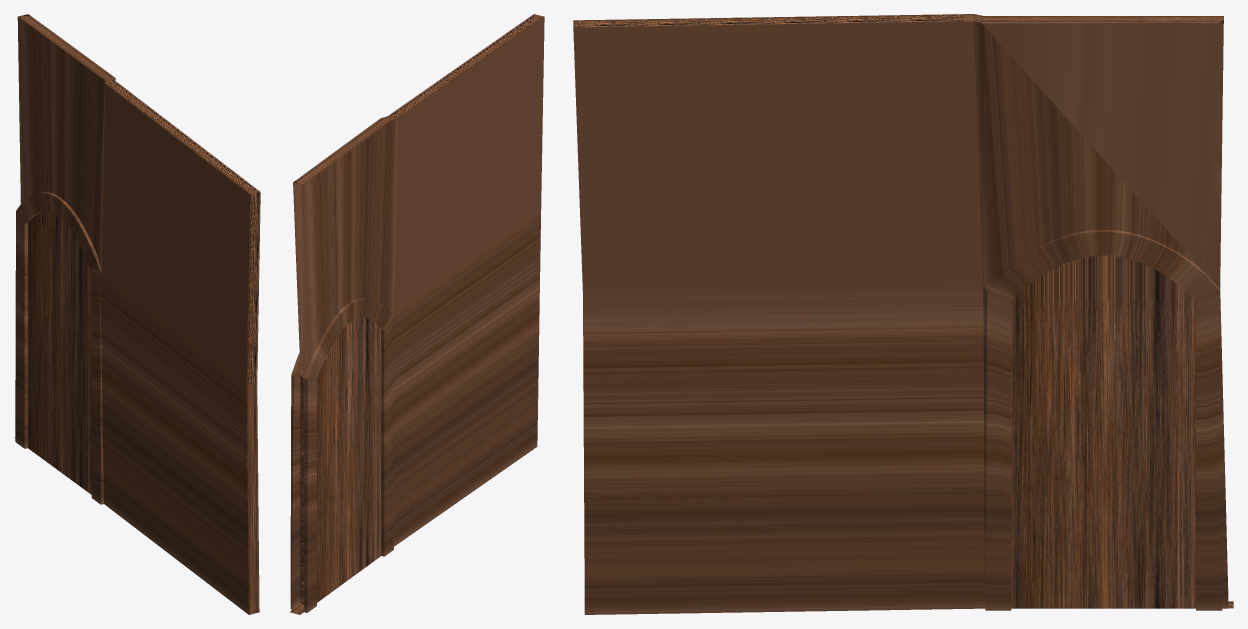
The model's file is BoatDoor.FBX.
The picture shows the model from 3 angles, left to right: view 1: azimuth 30°, elevation 25°; view 2: azimuth 150°, elevation 25°; view 3: azimuth 270°, elevation 25°; orthographic projection. The views are drawn at different scales.
Visible parts, largest first — view 1: Object001, Door other side; view 2: Object001, Door other side; view 3: Object001, Door other side.
Part boxes in pixels (x1,y1,x2,y2): Object001: (14, 14, 260, 614); Door other side: (28, 211, 91, 494); Object001: (290, 14, 544, 614); Door other side: (317, 317, 381, 602); Object001: (573, 14, 1233, 614); Door other side: (1011, 255, 1195, 608).
Size of the model in its own units: 8.73 by 211 by 214.
